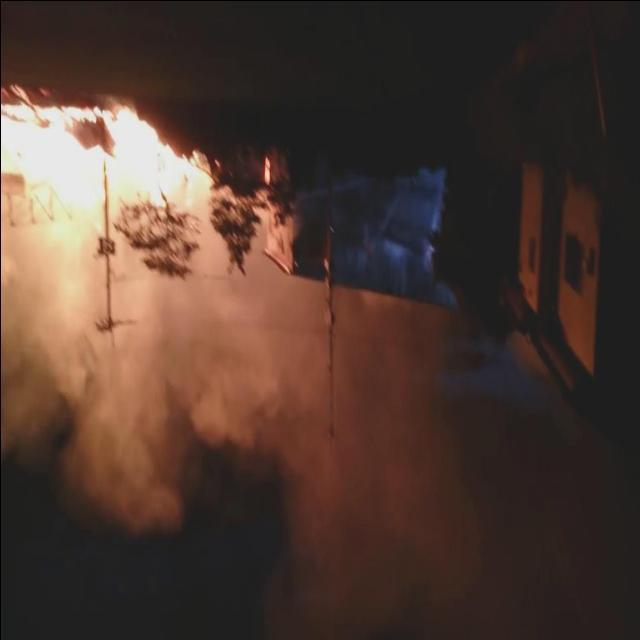Fire: (3, 102, 209, 215)
